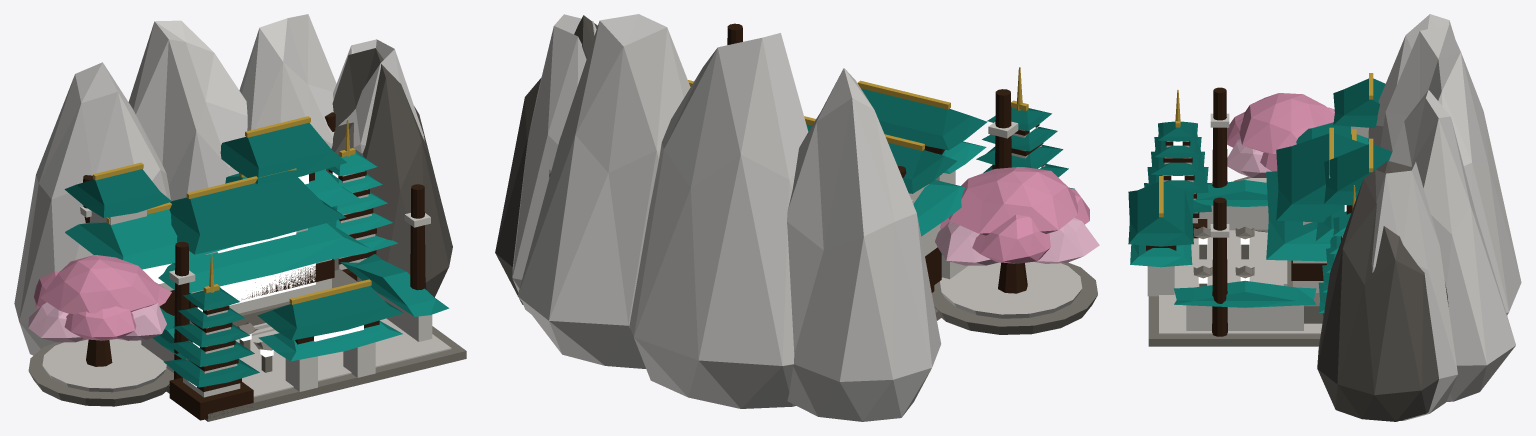
Rendered from moriya-shrine.glb.
The picture shows the model from 3 angles, left to right: view 1: azimuth 30°, elevation 25°; view 2: azimuth 150°, elevation 25°; view 3: azimuth 270°, elevation 25°; orthographic projection. The views are drawn at different scales.
Parts seen in each view (by area): view 1: MoriyaShrine_Opaque, MoriyaShrine_Emissive; view 2: MoriyaShrine_Opaque; view 3: MoriyaShrine_Opaque, MoriyaShrine_Emissive.
Boxes of the visible parts, x1,y1,x2,y2 form: MoriyaShrine_Opaque: (14, 14, 466, 421); MoriyaShrine_Emissive: (142, 172, 363, 387); MoriyaShrine_Opaque: (495, 14, 1099, 421); MoriyaShrine_Opaque: (1128, 14, 1521, 421); MoriyaShrine_Emissive: (1171, 141, 1346, 283).
Bounding box in the file's own units: 61.09 × 39.03 × 46.8.
